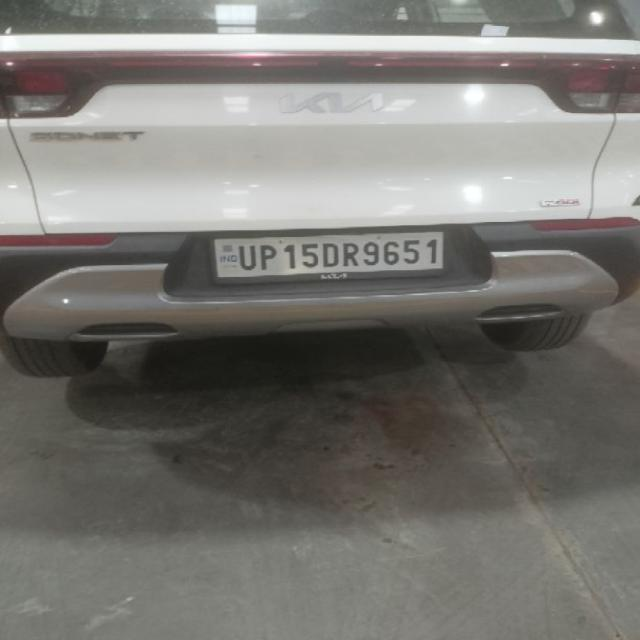license_plate: (208, 229, 448, 284)
